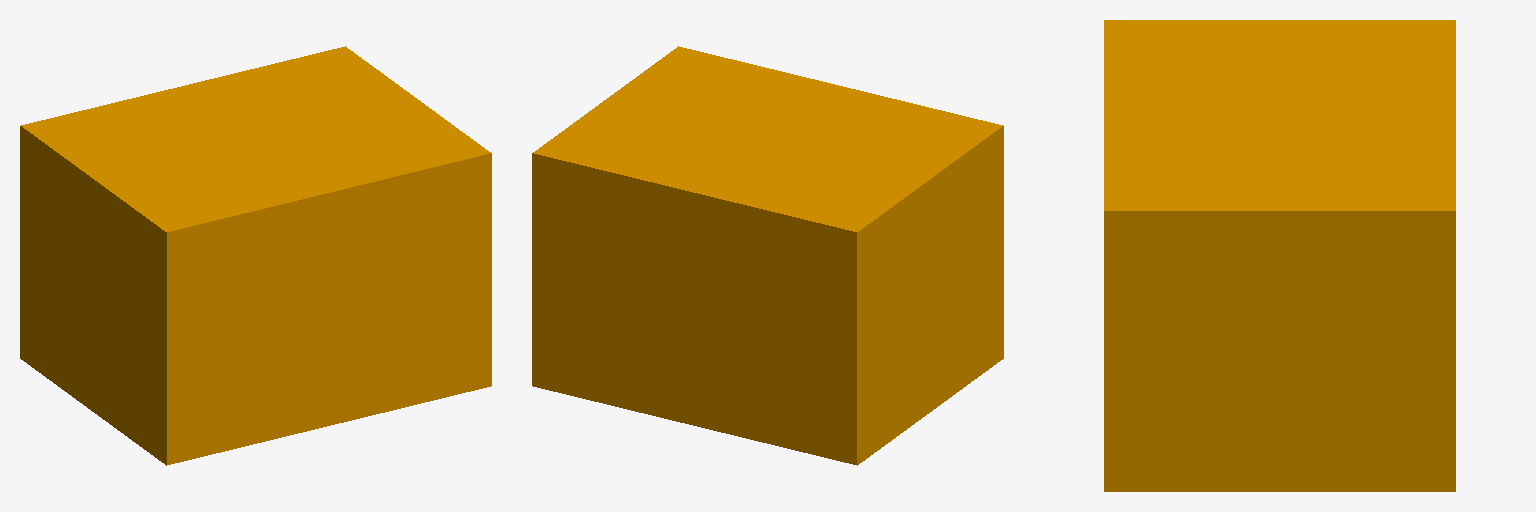
The robot description file, URDF, robot "object":
<?xml version="1.0"?>
<!-- Auto-generated by tools/gen_primitive_objects.py. kind=box dims=(0.084329, 0.065635, 0.057814) -->
<robot name="object">
  <link name="object">
    <visual>
      <origin xyz="0 0 0"/>
      <geometry>
        <box size="0.084329 0.065635 0.057814"/>
      </geometry>
    </visual>
    <collision>
      <origin xyz="0 0 0"/>
      <geometry>
        <box size="0.084329 0.065635 0.057814"/>
      </geometry>
    </collision>
    <inertial>
      <mass value="0.063999"/>
      <inertia ixx="0.00004080" ixy="0.0" ixz="0.0" iyy="0.00005575" iyz="0.0" izz="0.00006090"/>
    </inertial>
  </link>
</robot>

--- What the picture shows (computed from the rendered views, not written in the file) ---
Views: 3 orthographic renders of the robot side by side, from view 1: azimuth 30°, elevation 25°; view 2: azimuth 150°, elevation 25°; view 3: azimuth 270°, elevation 25°.
Model object with 1 links and 0 joints (none), rooted at object, posed every joint at zero.
Visible links, largest first — view 1: object; view 2: object; view 3: object.
Link boxes in pixels (bbox=[...]): object: bbox=[20, 46, 491, 465]; object: bbox=[532, 46, 1003, 465]; object: bbox=[1104, 20, 1455, 491].
Size in the robot's own frame: 0.0843 by 0.0656 by 0.0578 metres.
Geometry: primitives only (box / cylinder / sphere), no mesh files.
